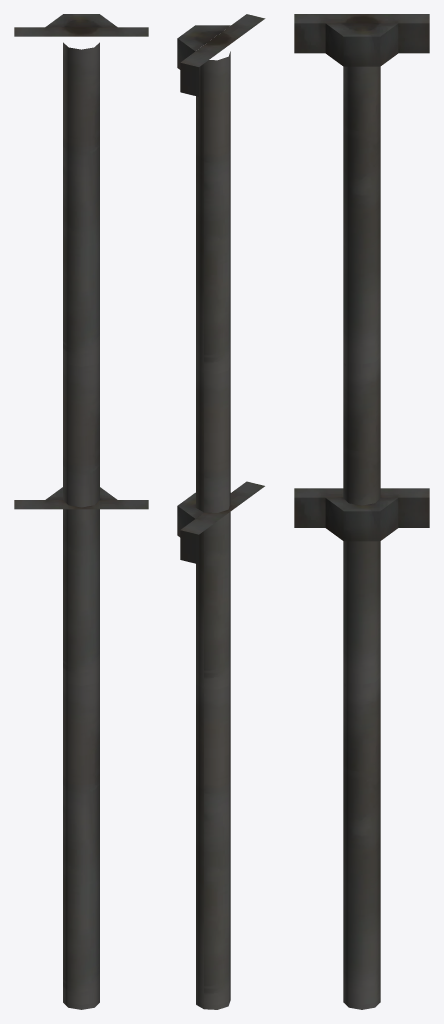
3 renders of one model, left to right at view 1: azimuth 90°, elevation 25°; view 2: azimuth 150°, elevation 25°; view 3: azimuth 270°, elevation 25°, orthographic.
Parts seen in each view (by area): view 1: body0_model0_lod0_mesh0; view 2: body0_model0_lod0_mesh0; view 3: body0_model0_lod0_mesh0.
Part boxes in pixels (box(x1,y1,x2,y2)): body0_model0_lod0_mesh0: box(14, 14, 148, 1009); body0_model0_lod0_mesh0: box(177, 14, 265, 1009); body0_model0_lod0_mesh0: box(294, 14, 429, 1009).
Bounding box in the file's own units: 3.58 × 72 × 9.
Materials: 1 (1 with a texture image).
